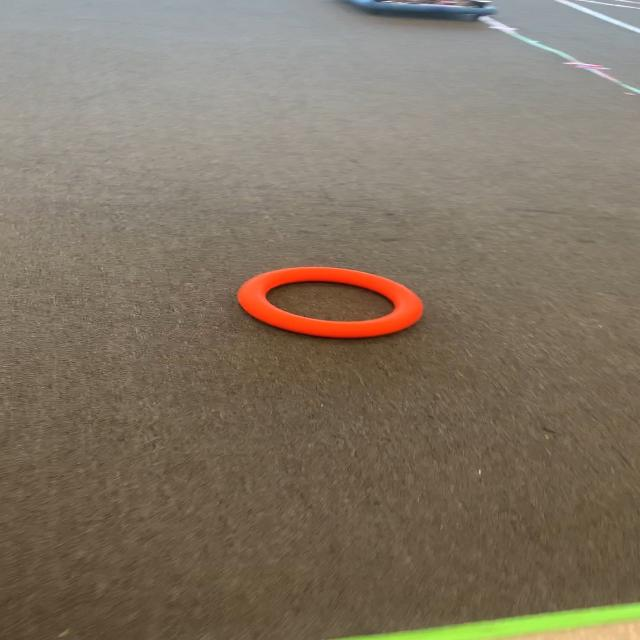notes: (241, 266, 425, 340)
